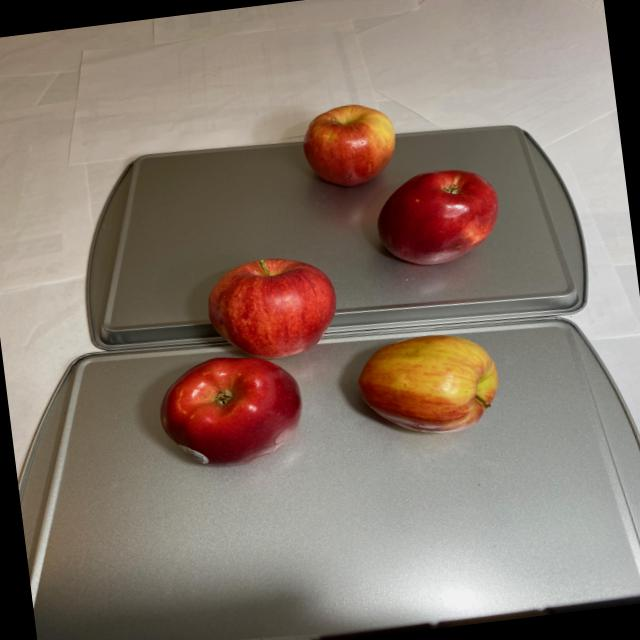apple: (141, 230, 509, 489), (298, 90, 506, 278)
